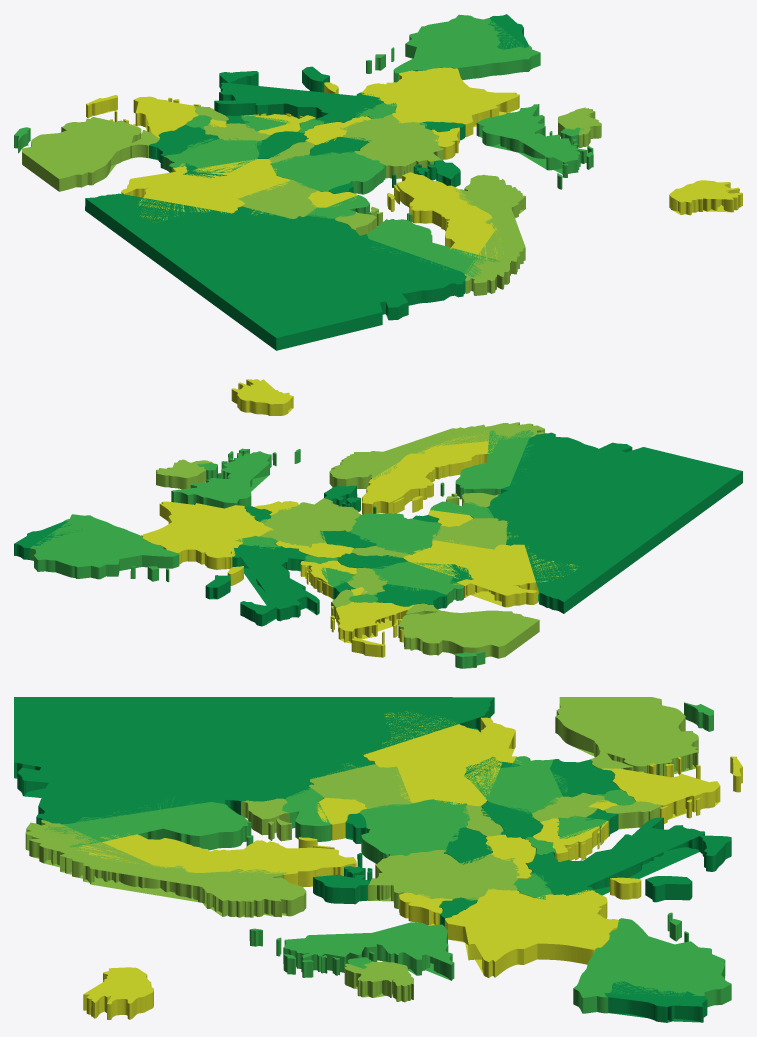
File: Europe.fbx
The picture shows the model from 3 angles, top to bottom: view 1: azimuth 30°, elevation 25°; view 2: azimuth 150°, elevation 25°; view 3: azimuth 270°, elevation 25°; orthographic projection. The views are drawn at different scales.
Visible parts, largest first — view 1: Russia, Spain, Turkey, France, Ukraine, Italy, Norway, Sweden, UK, Germany, Poland, Finland (+16 smaller); view 2: Russia, Spain, Turkey, Ukraine, France, Italy, Sweden, Norway, UK, Germany, Greece, Finland (+15 smaller); view 3: Russia, France, Norway, Spain, Turkey, Italy, Ukraine, UK, Sweden, Germany, Finland, Poland (+23 smaller).
Part boxes in pixels (x1,y1,x2,y2): Russia: [85, 193, 466, 350]; Spain: [366, 14, 540, 82]; Turkey: [22, 117, 160, 191]; France: [324, 67, 519, 136]; Ukraine: [121, 159, 289, 220]; Italy: [214, 66, 383, 123]; Norway: [454, 174, 525, 295]; Sweden: [387, 172, 503, 259]; UK: [476, 104, 593, 189]; Germany: [340, 114, 443, 178]; Poland: [270, 151, 385, 194]; Finland: [367, 213, 499, 276]; Russia: [487, 432, 742, 613]; Spain: [29, 514, 179, 582]; Turkey: [398, 603, 539, 658]; Ukraine: [403, 540, 577, 607]; France: [141, 501, 273, 585]; Italy: [205, 544, 319, 626]; Sweden: [362, 432, 497, 514]; Norway: [329, 422, 544, 488]; UK: [171, 448, 300, 508]; Germany: [260, 498, 360, 547]; Greece: [330, 602, 414, 657]; Finland: [440, 430, 533, 499]; Russia: [14, 697, 494, 824]; France: [445, 877, 641, 977]; Norway: [25, 820, 306, 917]; Spain: [573, 912, 731, 1013]; Turkey: [555, 697, 698, 776]; Italy: [525, 817, 731, 902]; Ukraine: [362, 711, 521, 806]; UK: [249, 922, 454, 980]; Sweden: [77, 833, 356, 887]; Germany: [368, 850, 520, 908]; Finland: [44, 797, 253, 850]; Poland: [360, 799, 470, 863].
Size of the model in its own units: 1158 by 27.74 by 1151.
